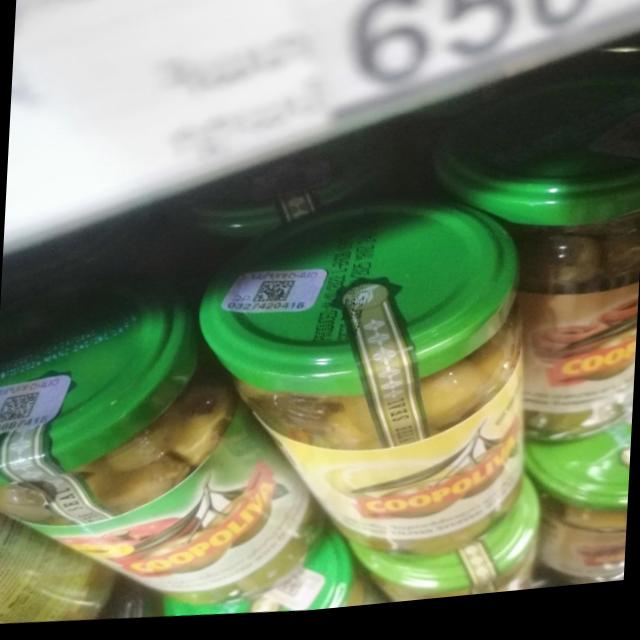datamatrix: (1, 390, 42, 427), (253, 283, 296, 311)
